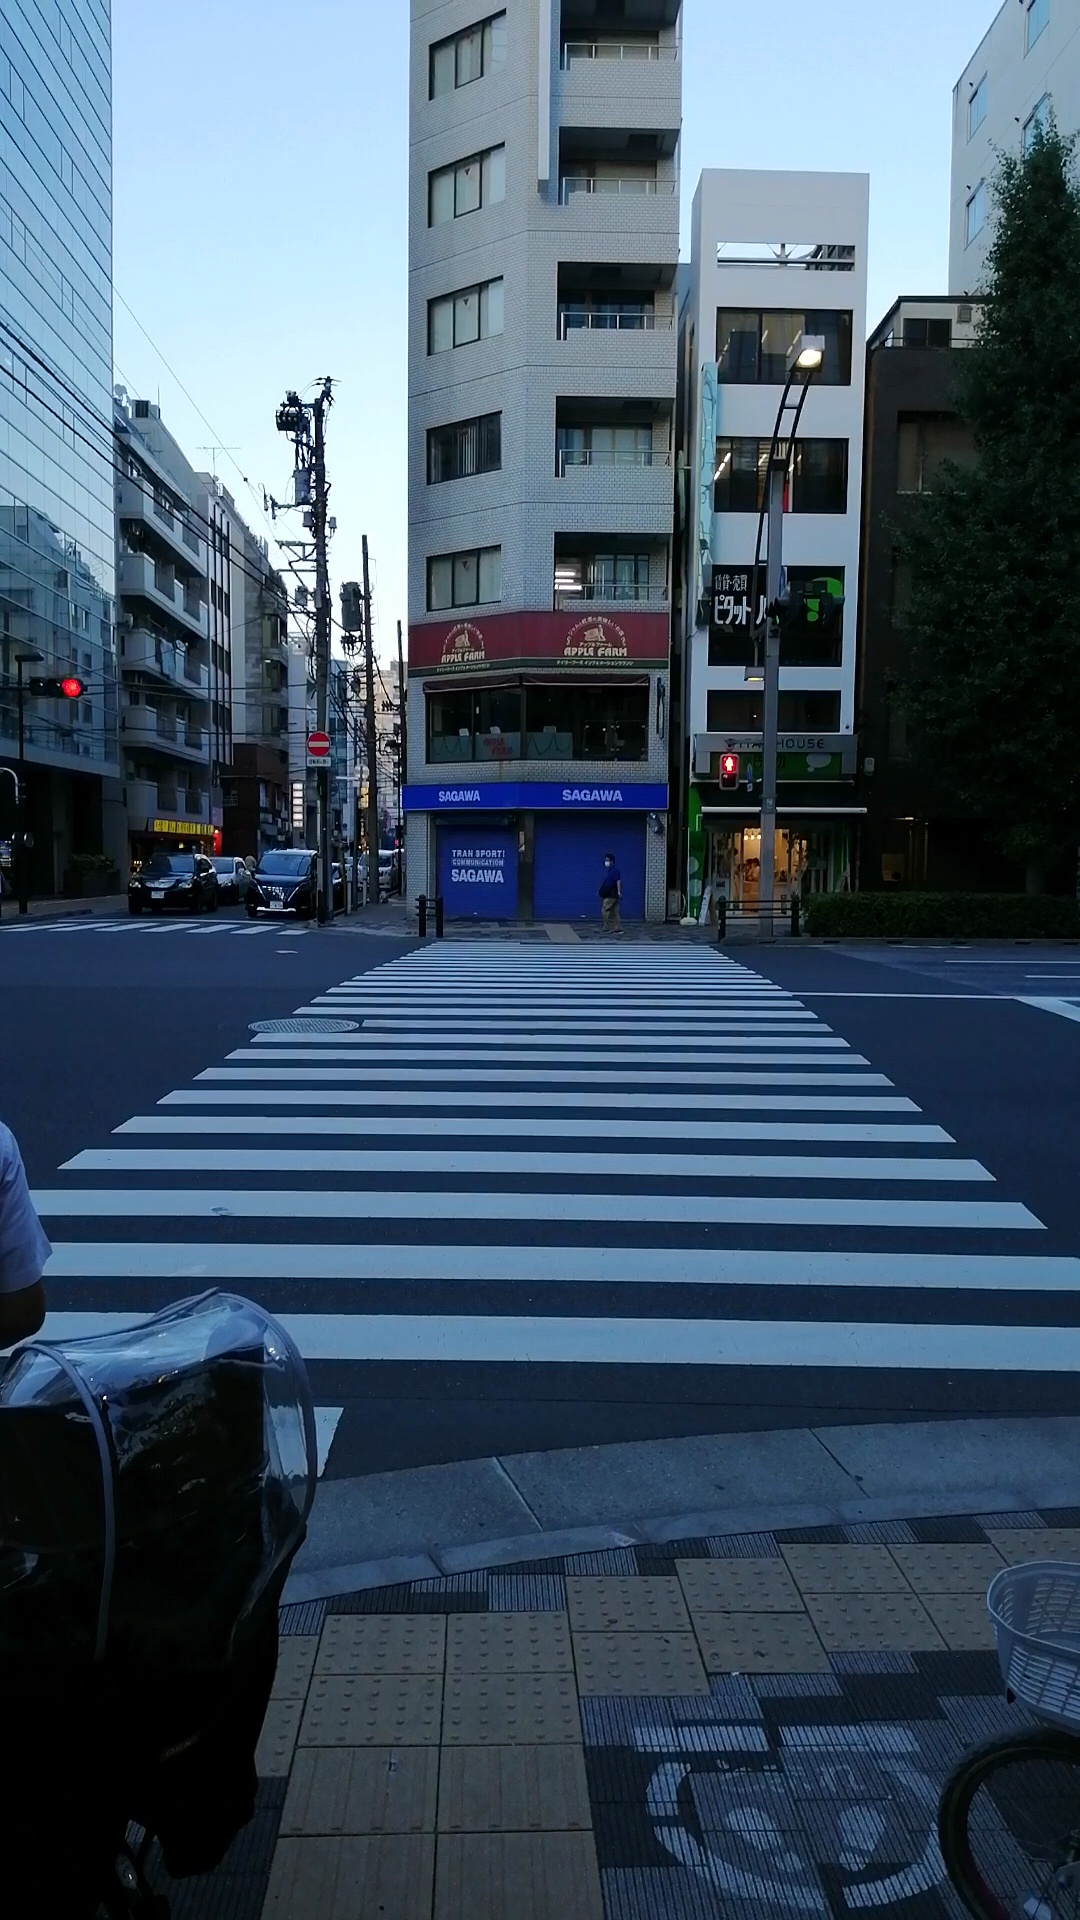red: (717, 752, 738, 793)
